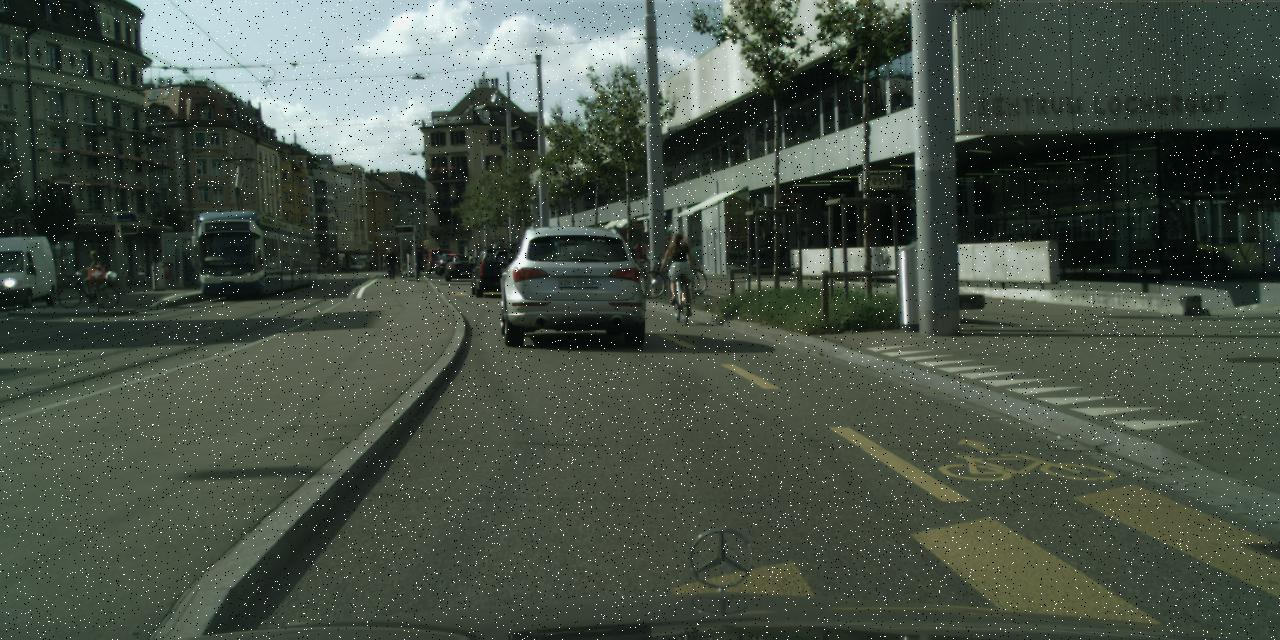ped: (665, 233, 695, 308), (84, 250, 104, 299), (384, 247, 397, 278), (325, 258, 330, 272)
